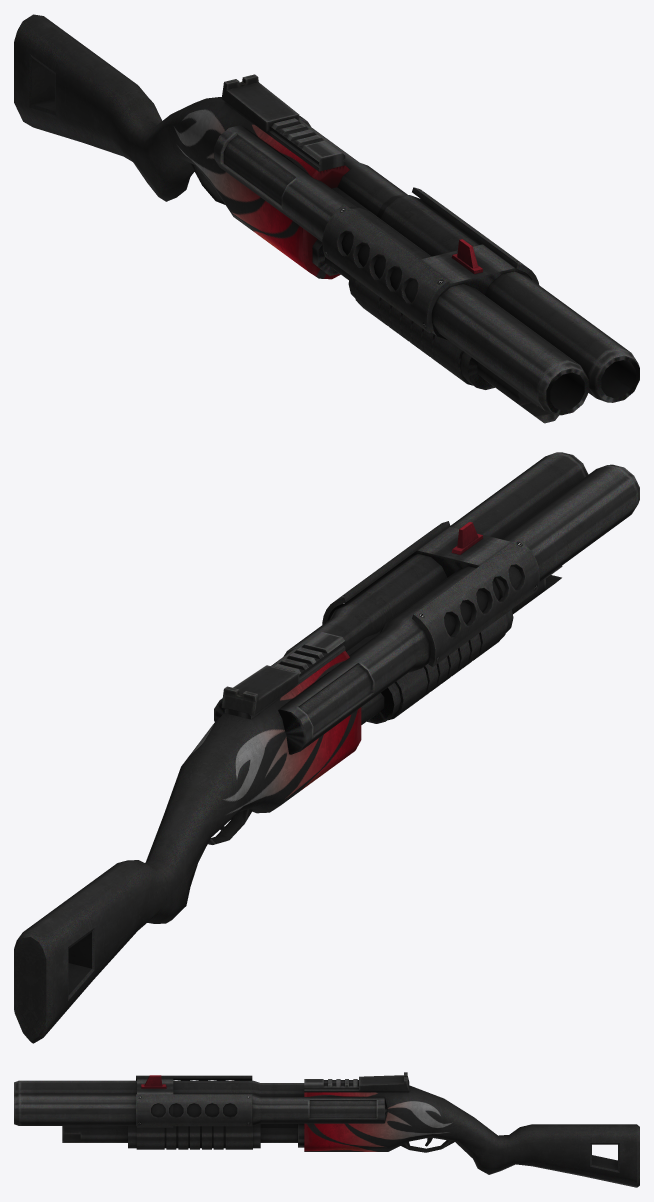
Rendered from Death Hammer.fbx.
The picture shows the model from 3 angles, top to bottom: view 1: azimuth 30°, elevation 25°; view 2: azimuth 150°, elevation 25°; view 3: azimuth 270°, elevation 25°; orthographic projection. The views are drawn at different scales.
Visible parts, largest first — view 1: Death_Hammer; view 2: Death_Hammer; view 3: Death_Hammer.
Part boxes in pixels (x1,y1,x2,y2): Death_Hammer: (14, 14, 639, 423); Death_Hammer: (14, 452, 639, 1043); Death_Hammer: (14, 1072, 639, 1187).
Bounding box in the file's own units: 0.1364 × 0.2313 × 1.17.
